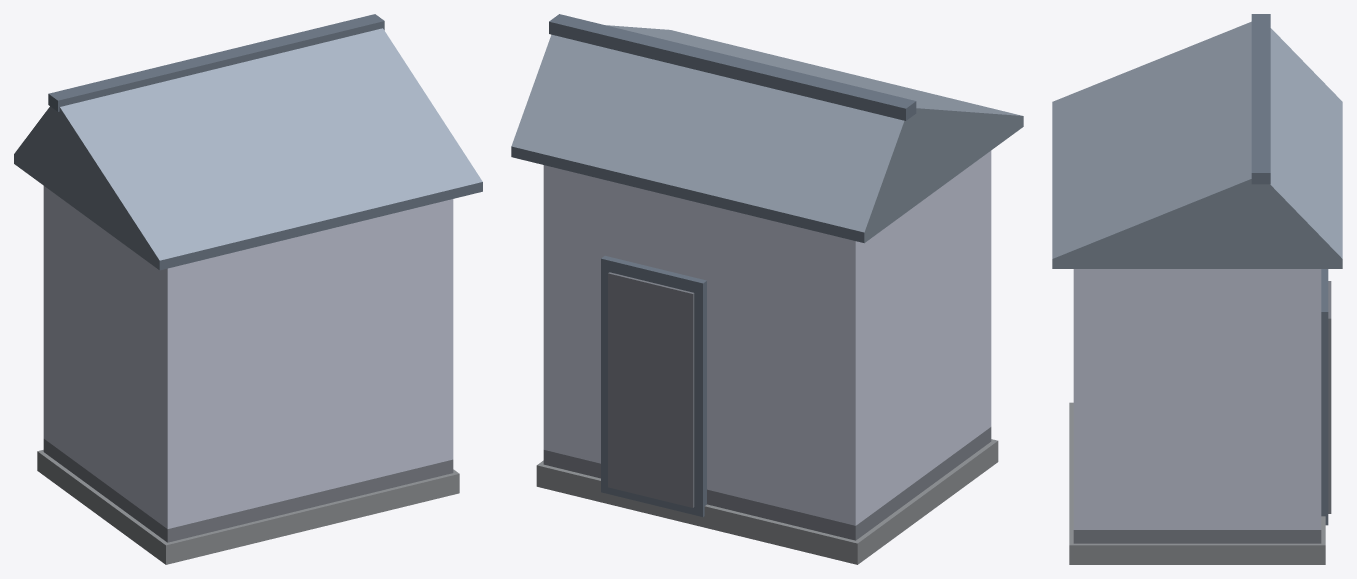
Rendered from slate_shed.glb.
The picture shows the model from 3 angles, left to right: view 1: azimuth 30°, elevation 25°; view 2: azimuth 150°, elevation 25°; view 3: azimuth 270°, elevation 25°; orthographic projection. The views are drawn at different scales.
Parts seen in each view (by area): view 1: PlasterWalls.002, FoldedRoof.002, StoneFooting.002, TimberSkirt.002, RidgeCap.002; view 2: PlasterWalls.002, FoldedRoof.002, RearDoor.002, StoneFooting.002, RidgeCap.002, RearDoorFrame.002, TimberSkirt.002; view 3: PlasterWalls.002, FoldedRoof.002, StoneFooting.002, TimberSkirt.002, RidgeCap.002, RearDoorFrame.002, RearDoor.002.
Boxes of the visible parts, x1,y1,x2,y2 form: PlasterWalls.002: (43, 186, 453, 528); FoldedRoof.002: (14, 28, 482, 270); StoneFooting.002: (37, 450, 459, 564); TimberSkirt.002: (43, 439, 453, 542); RidgeCap.002: (48, 14, 384, 111); PlasterWalls.002: (543, 151, 991, 525); FoldedRoof.002: (511, 25, 1023, 243); RearDoor.002: (608, 272, 694, 507); StoneFooting.002: (536, 439, 998, 564); RidgeCap.002: (549, 14, 916, 120); RearDoorFrame.002: (601, 255, 706, 516); TimberSkirt.002: (543, 427, 991, 540); PlasterWalls.002: (1073, 269, 1321, 529); FoldedRoof.002: (1052, 21, 1342, 268); StoneFooting.002: (1069, 402, 1325, 564); TimberSkirt.002: (1073, 530, 1321, 543); RidgeCap.002: (1251, 14, 1270, 184); RearDoorFrame.002: (1321, 269, 1328, 525); RearDoor.002: (1328, 281, 1331, 513).
Size of the model in its own units: 2.27 by 2.66 by 1.75.
